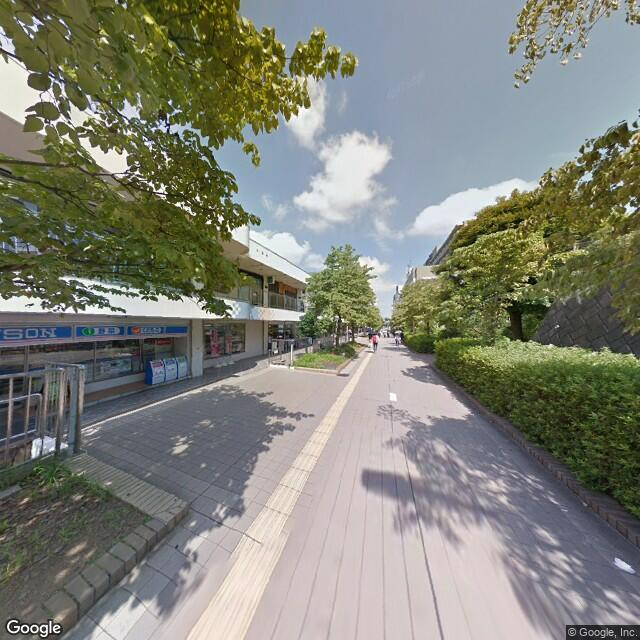lawson: (1, 322, 192, 347)
